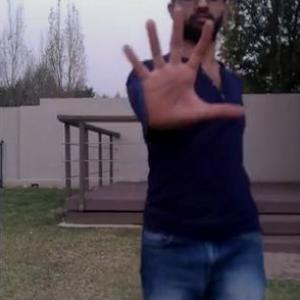follow_hand: (116, 1, 251, 134)
